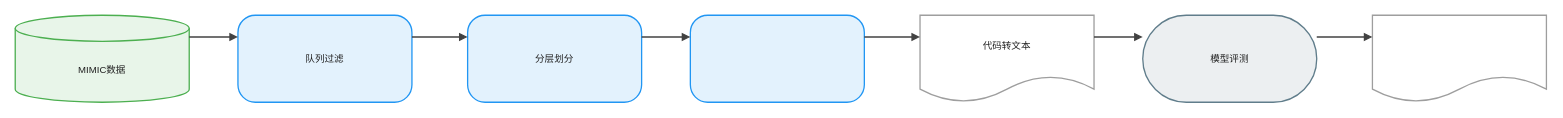
The diagram is 1563 pixels wide and 118 high, and some of its shapes have lost their labels. The centre of each missing label's shape, as x and y in pixels:
F1/AUROC: (x=1459, y=58)
训练平衡: (x=777, y=58)
